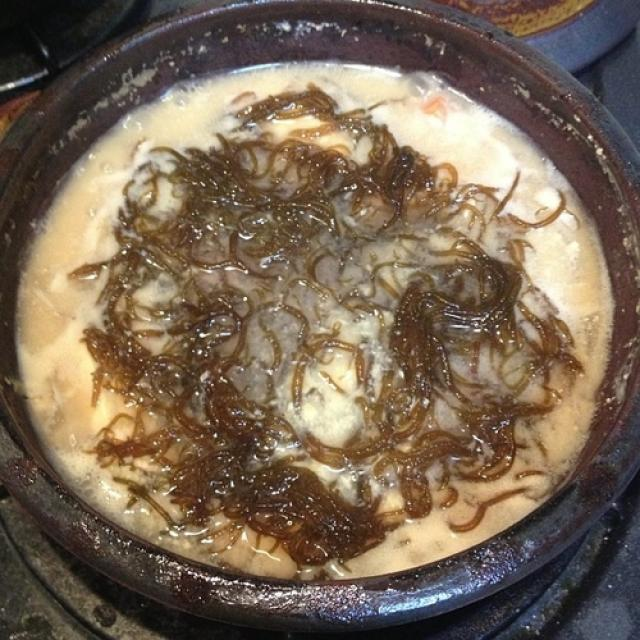蔬菜料理: (18, 23, 616, 608)
